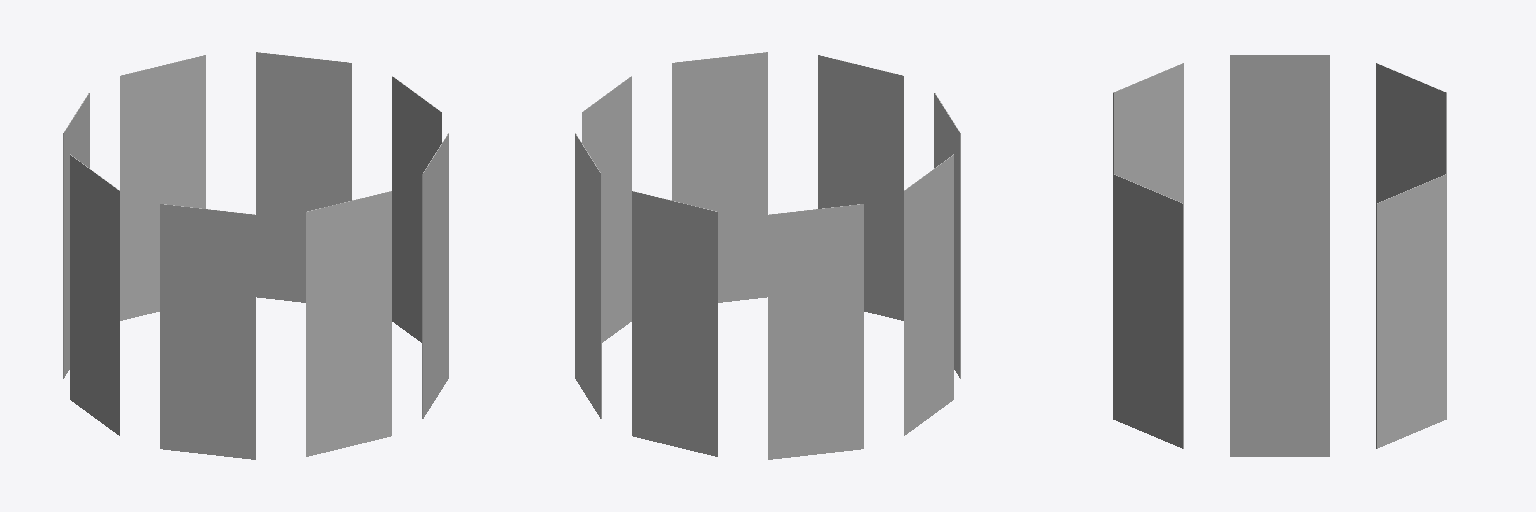
Rendered from glass.obj.
3 renders of one model, left to right at view 1: azimuth 30°, elevation 25°; view 2: azimuth 150°, elevation 25°; view 3: azimuth 270°, elevation 25°, orthographic.
Parts seen in each view (by area): view 1: 003_Box_-_baked_-_baked, 004_Box_-_baked_-_baked, 007_Box_-_baked_-_baked, 000_Box_-_baked_-_baked, 002_Box_-_baked_-_baked, 006_Box_-_baked_-_baked, 005_Box_-_baked_-_baked, 001_Box_-_baked_-_baked; view 2: 001_Box_-_baked_-_baked, 000_Box_-_baked_-_baked, 005_Box_-_baked_-_baked, 004_Box_-_baked_-_baked, 002_Box_-_baked_-_baked, 006_Box_-_baked_-_baked, 007_Box_-_baked_-_baked, 003_Box_-_baked_-_baked; view 3: 006_Box_-_baked_-_baked, 005_Box_-_baked_-_baked, 007_Box_-_baked_-_baked, 002_Box_-_baked_-_baked, 001_Box_-_baked_-_baked, 003_Box_-_baked_-_baked.
Boxes of the visible parts, x1=… form: 003_Box_-_baked_-_baked: x1=160, y1=204, x2=255, y2=459; 004_Box_-_baked_-_baked: x1=306, y1=191, x2=391, y2=456; 007_Box_-_baked_-_baked: x1=256, y1=52, x2=351, y2=302; 000_Box_-_baked_-_baked: x1=120, y1=55, x2=205, y2=320; 002_Box_-_baked_-_baked: x1=70, y1=154, x2=119, y2=435; 006_Box_-_baked_-_baked: x1=392, y1=76, x2=441, y2=342; 005_Box_-_baked_-_baked: x1=422, y1=133, x2=448, y2=418; 001_Box_-_baked_-_baked: x1=63, y1=93, x2=89, y2=378; 001_Box_-_baked_-_baked: x1=768, y1=204, x2=863, y2=459; 000_Box_-_baked_-_baked: x1=632, y1=191, x2=717, y2=456; 005_Box_-_baked_-_baked: x1=672, y1=52, x2=767, y2=302; 004_Box_-_baked_-_baked: x1=818, y1=55, x2=903, y2=320; 002_Box_-_baked_-_baked: x1=904, y1=154, x2=953, y2=435; 006_Box_-_baked_-_baked: x1=582, y1=76, x2=631, y2=342; 007_Box_-_baked_-_baked: x1=575, y1=133, x2=601, y2=418; 003_Box_-_baked_-_baked: x1=934, y1=93, x2=960, y2=378; 006_Box_-_baked_-_baked: x1=1230, y1=212, x2=1329, y2=456; 005_Box_-_baked_-_baked: x1=1113, y1=174, x2=1183, y2=448; 007_Box_-_baked_-_baked: x1=1376, y1=174, x2=1446, y2=448; 002_Box_-_baked_-_baked: x1=1230, y1=55, x2=1329, y2=211; 001_Box_-_baked_-_baked: x1=1376, y1=63, x2=1446, y2=203; 003_Box_-_baked_-_baked: x1=1113, y1=63, x2=1183, y2=203.
Bounding box in the file's own units: 78.47 × 56.96 × 78.47.